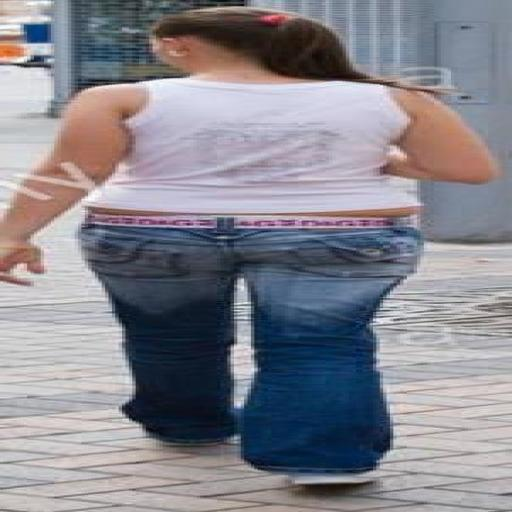person: (0, 7, 498, 484)
